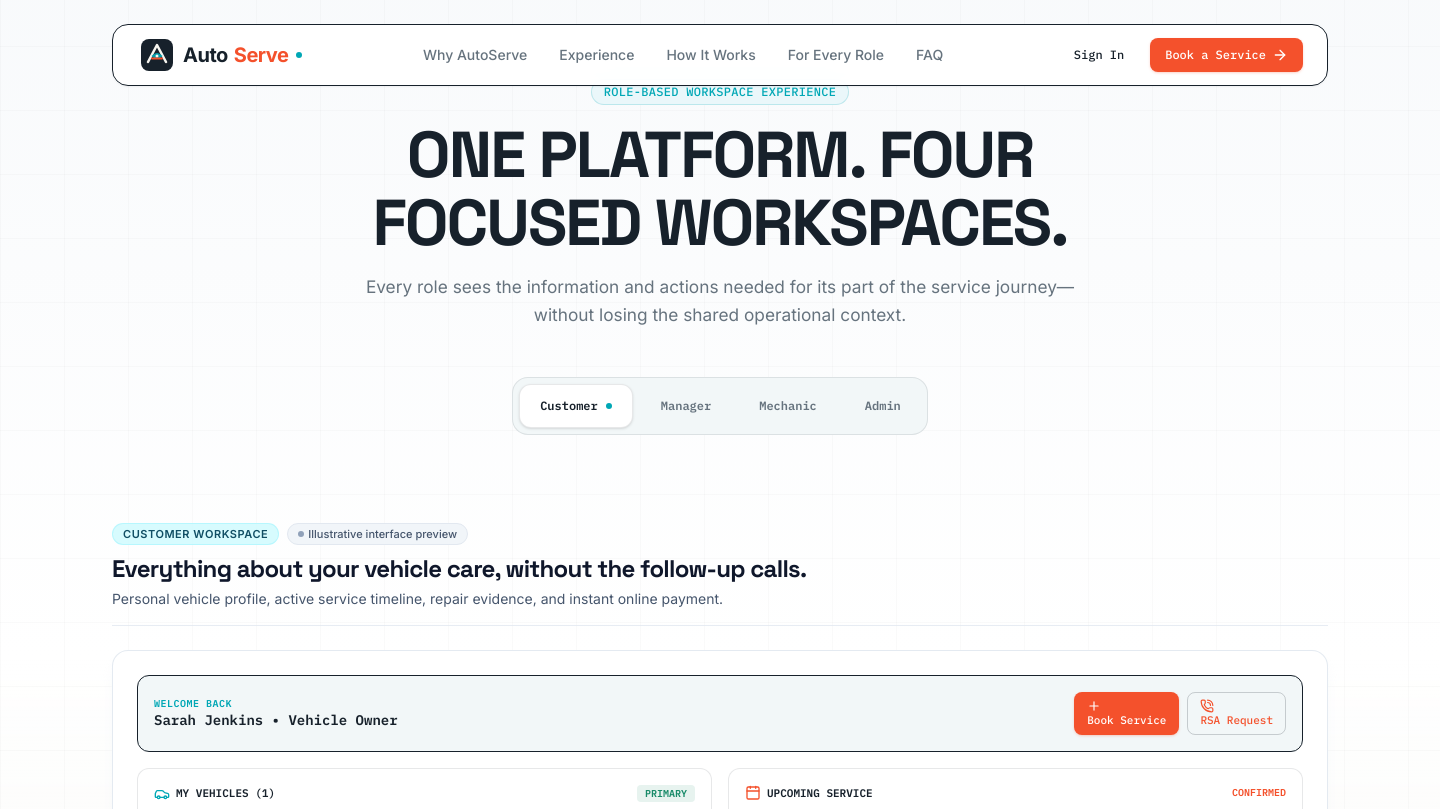
it: AutoServe Part 6D — Trust, Evidence, Payment & Roadside Tests › 11. selecting Manager changes workspace content
(page scrolled)
Click the tab "Manager" at (686, 406), box [641,384,731,428]
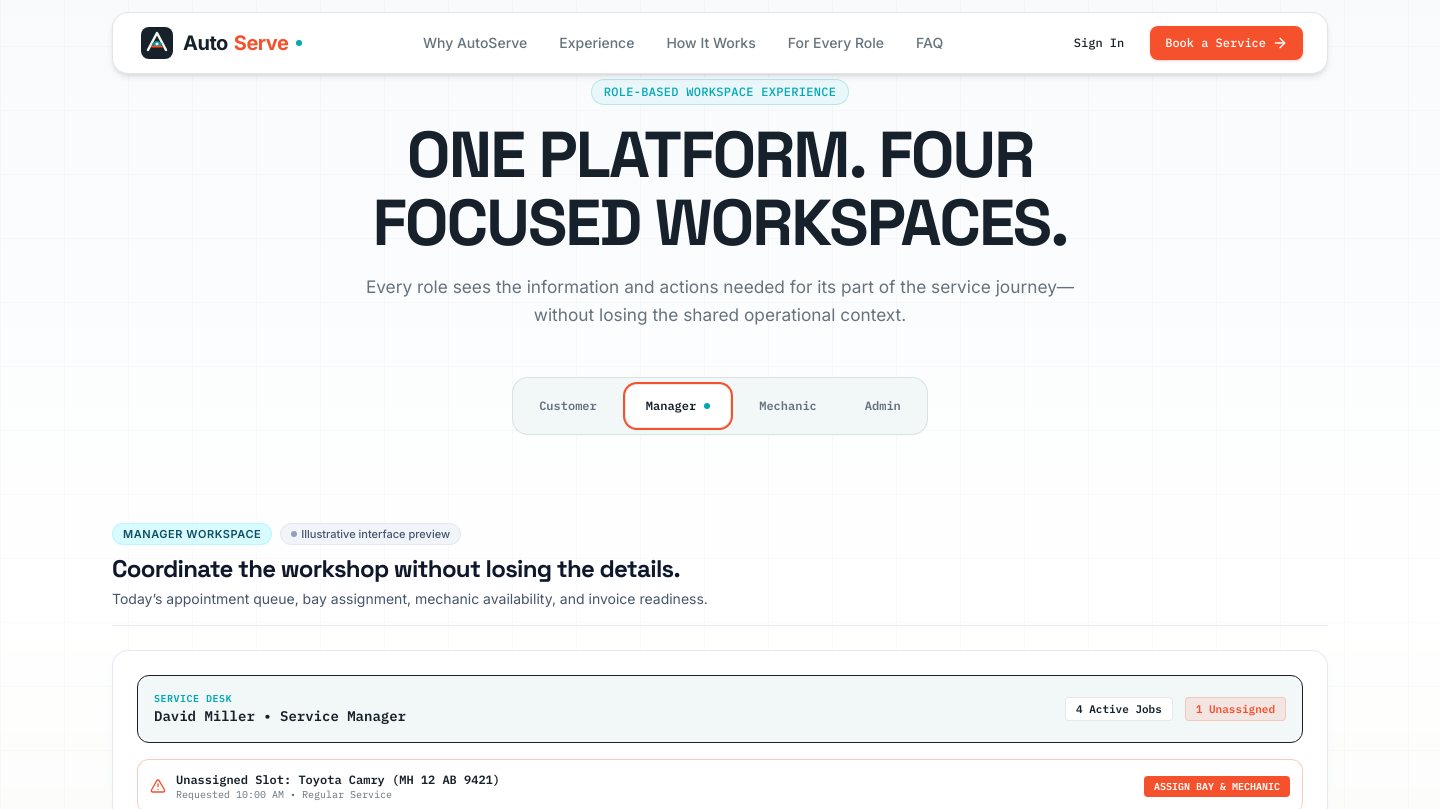
Check: the heading "Coordinate the workshop without losing the details." is shown, box [112,553,708,585]
Check: the text "David Miller • Service Manager" is shown, box [154,706,406,726]
